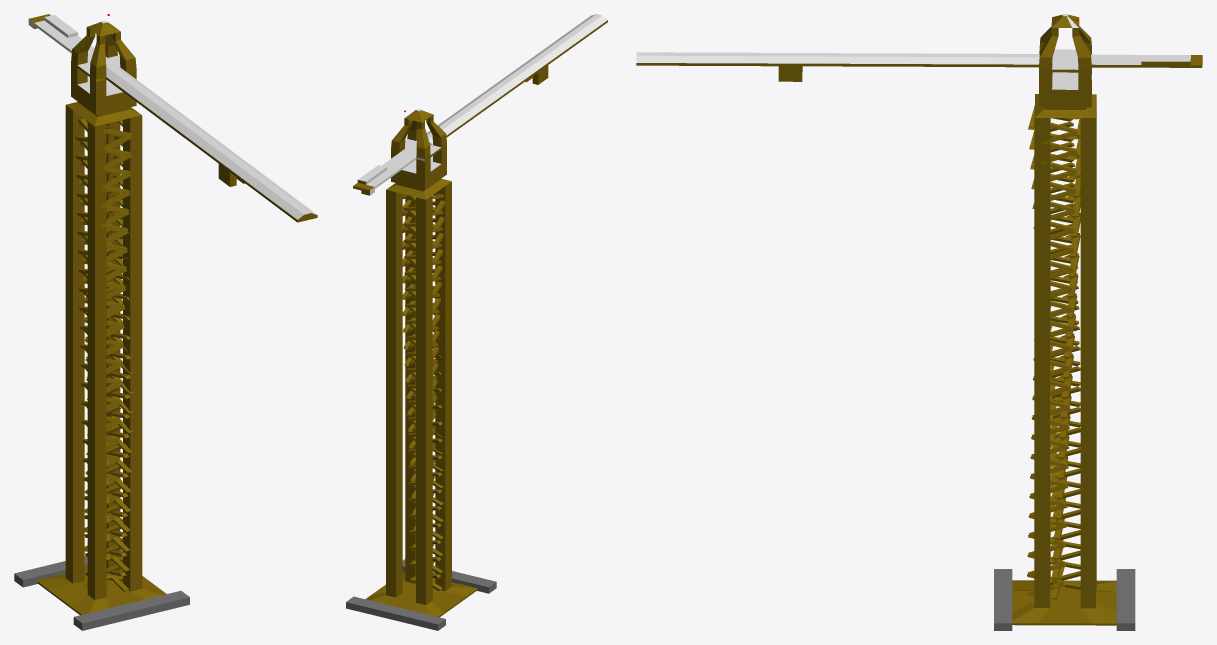
File: WesteriaConstructionCrane.fbx
3 views of the same model, side by side, from view 1: azimuth 30°, elevation 25°; view 2: azimuth 150°, elevation 25°; view 3: azimuth 270°, elevation 25° (orthographic). The views are drawn at different scales.
Visible parts, largest first — view 1: WesteriaCrane; view 2: WesteriaCrane; view 3: WesteriaCrane.
Boxes of the visible parts, x1=… form: WesteriaCrane: x1=14, y1=14, x2=317, y2=630; WesteriaCrane: x1=346, y1=14, x2=607, y2=630; WesteriaCrane: x1=636, y1=14, x2=1202, y2=630.
Bounding box in the file's own units: 594 × 3011 × 2616.
